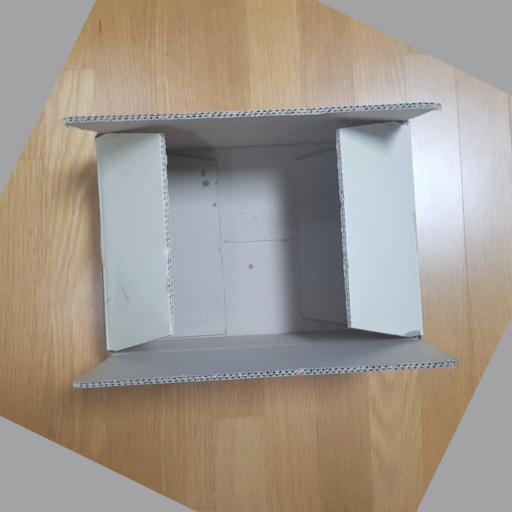Paper_0: (53, 101, 464, 393)
